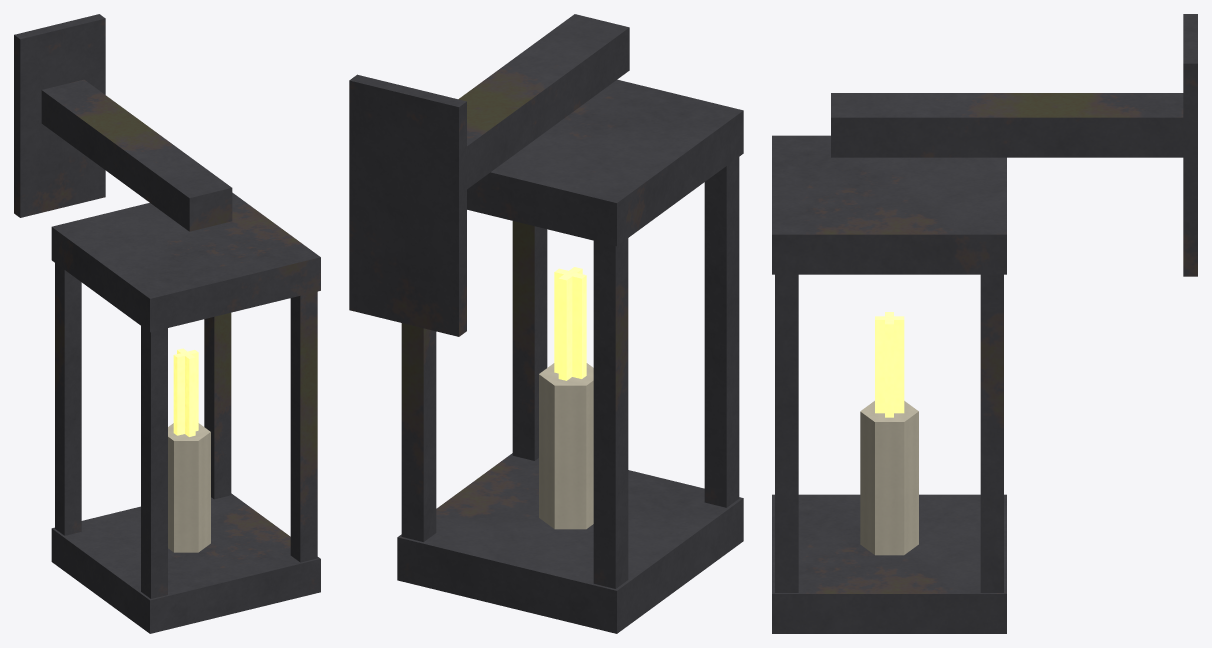
File: lantern.glb
The picture shows the model from 3 angles, left to right: view 1: azimuth 30°, elevation 25°; view 2: azimuth 150°, elevation 25°; view 3: azimuth 270°, elevation 25°; orthographic projection. The views are drawn at different scales.
Parts seen in each view (by area): view 1: lantern; view 2: lantern; view 3: lantern.
Boxes of the visible parts, x1,y1,x2,y2 form: lantern: [14, 14, 320, 633]; lantern: [349, 14, 743, 633]; lantern: [772, 14, 1197, 633].
Size of the model in its own units: 0.16 by 0.41 by 0.29.
Materials: 3 (3 with a texture image).
